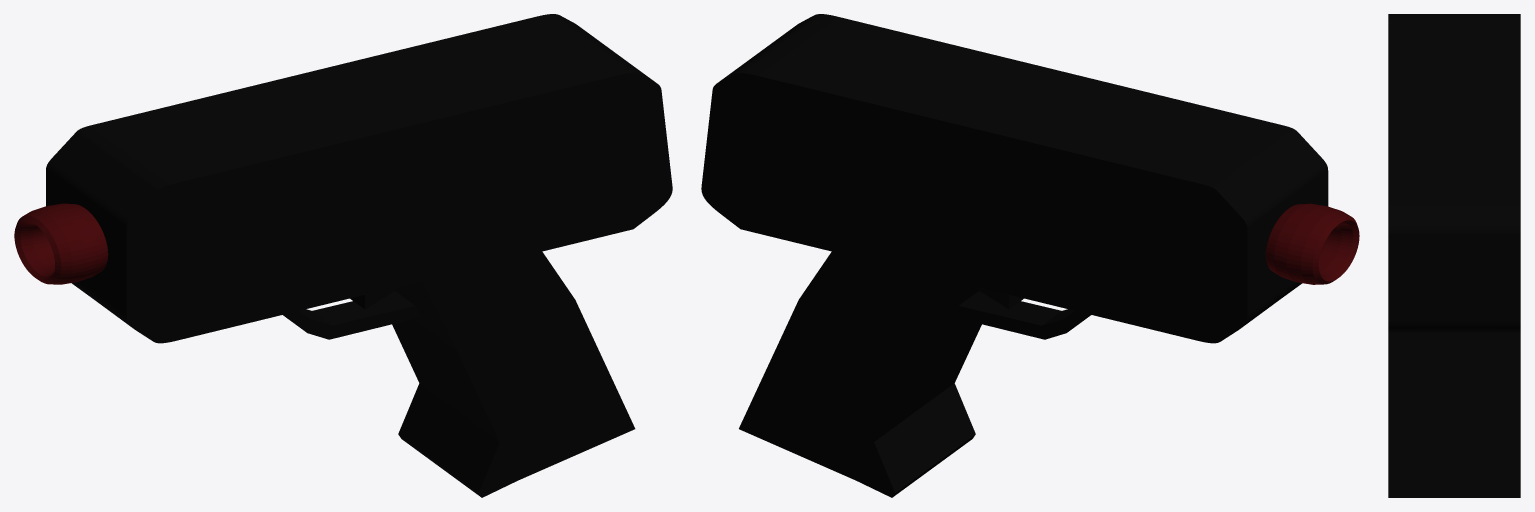
Rendered from EnemyGun.fbx.
The picture shows the model from 3 angles, left to right: view 1: azimuth 30°, elevation 25°; view 2: azimuth 150°, elevation 25°; view 3: azimuth 270°, elevation 25°; orthographic projection. The views are drawn at different scales.
Visible parts, largest first — view 1: Cube, Torus; view 2: Cube, Torus; view 3: Cube.
Part boxes in pixels (x1,y1,x2,y2): Cube: (46, 14, 672, 497); Torus: (14, 203, 108, 284); Cube: (701, 14, 1328, 497); Torus: (1265, 203, 1359, 284); Cube: (1388, 14, 1520, 497).
Size of the model in its own units: 451 by 281 by 105.
